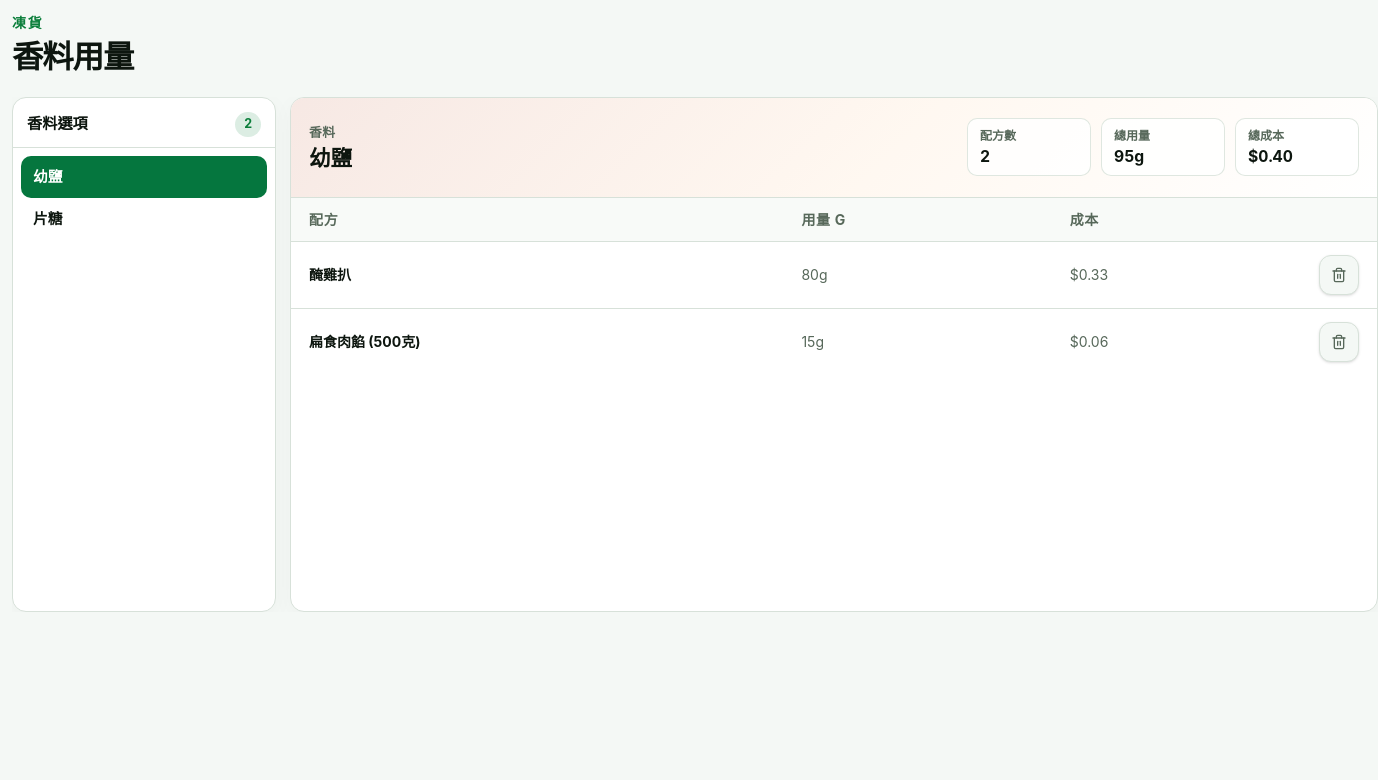
Test: Spice usage page › deletes an applied usage after confirmation
Expected: the text "醃雞扒" is shown, [309,266,351,283]
Click the button named "刪除" in the row of "醃雞扒" at (1339, 275), box [1319,255,1359,295]
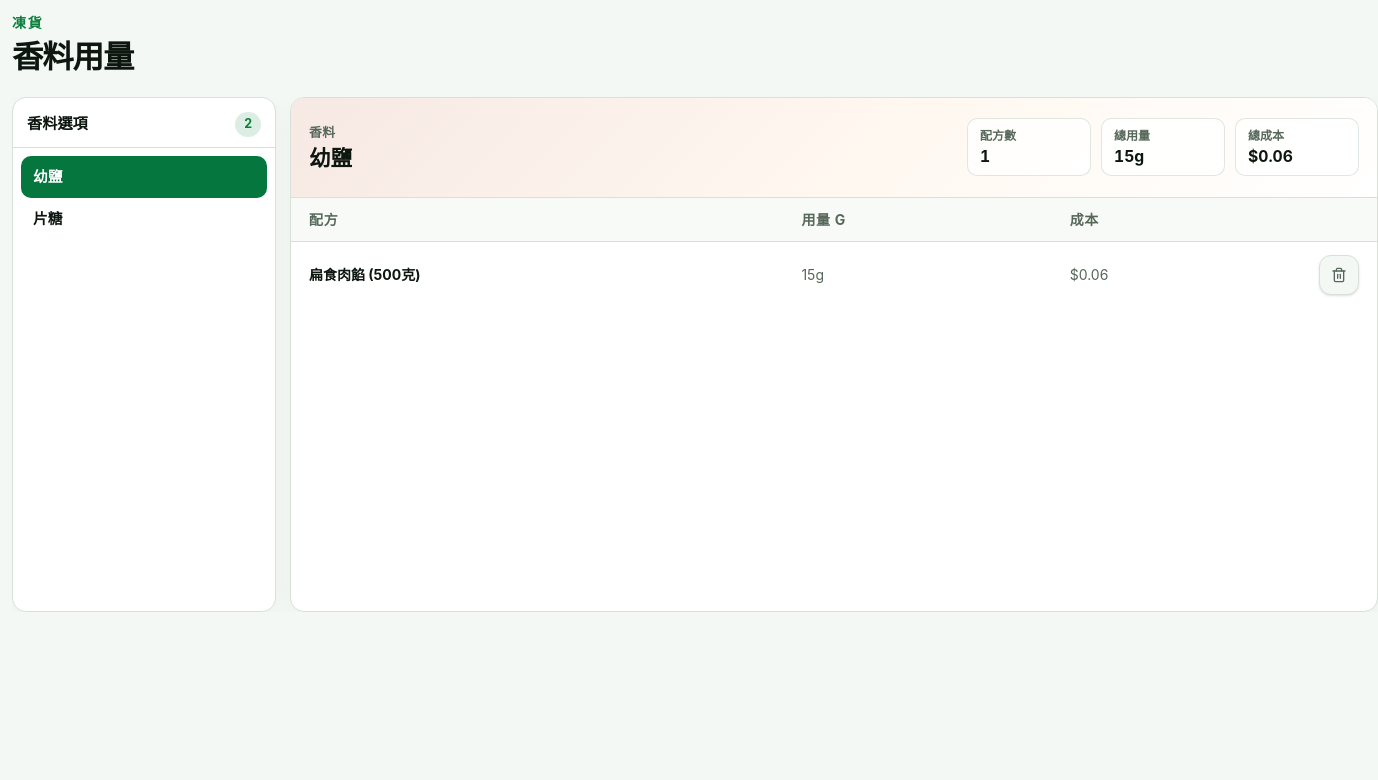
Expected: the text "扁食肉餡 (500克)" is shown, [309,266,420,283]
Now the text "醃雞扒" is gone
